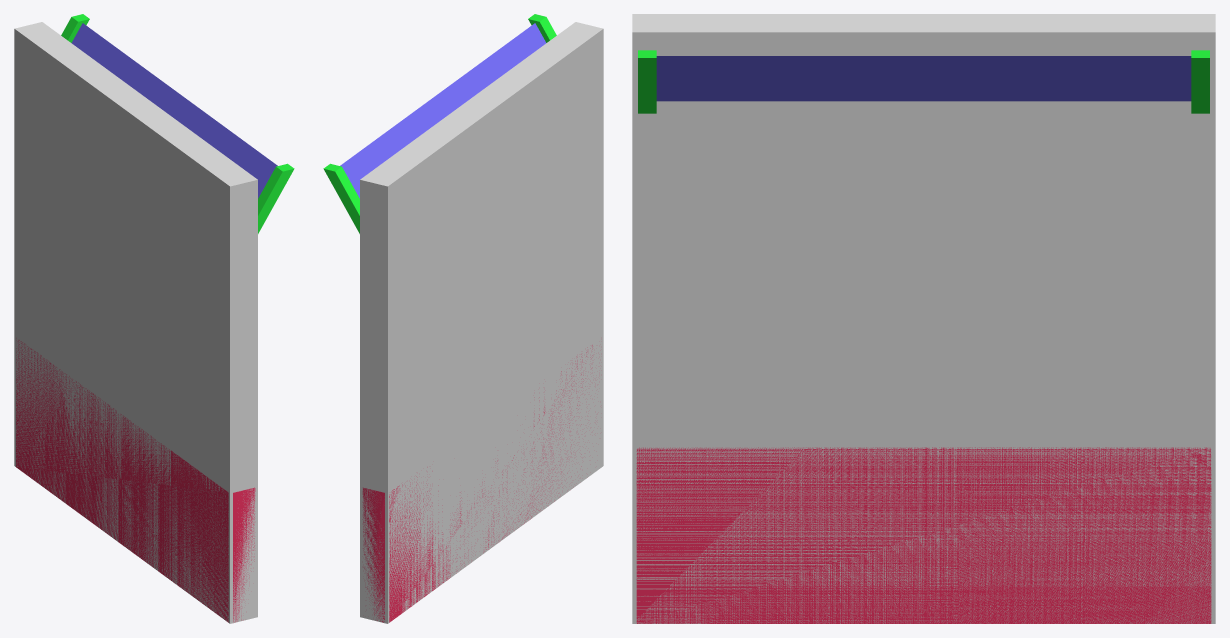
Rendered from SM_Fence_1.fbx.
3 renders of one model, left to right at view 1: azimuth 30°, elevation 25°; view 2: azimuth 150°, elevation 25°; view 3: azimuth 270°, elevation 25°, orthographic. The views are drawn at different scales.
Parts seen in each view (by area): view 1: CB_Fence_1, Fence; view 2: CB_Fence_1, Fence; view 3: CB_Fence_1, Fence.
Part boxes in pixels (x1,y1,x2,y2): CB_Fence_1: [14, 22, 257, 623]; Fence: [16, 14, 294, 622]; CB_Fence_1: [360, 22, 603, 623]; Fence: [323, 14, 592, 622]; CB_Fence_1: [632, 14, 1215, 623]; Fence: [636, 50, 1211, 623].
Size of the model in its own units: 1.34 by 8.39 by 7.5.
